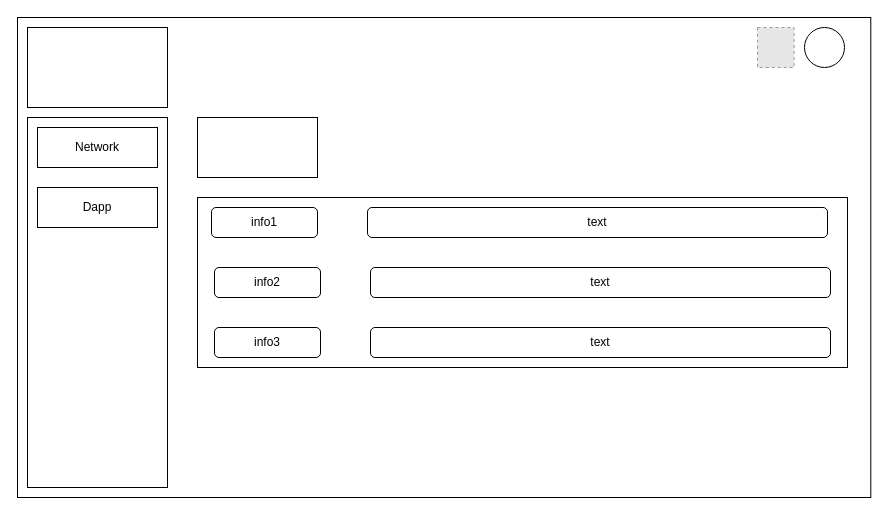
Some shapes in this 889 by 515 pixel diagram are drawn without their labels. Grey dashed boxes stand in for pictures. Here are the shapes that lost their labels. From the top down, the centre of each, then its label:
[97,67]: Logo
[257,147]: Network 1
